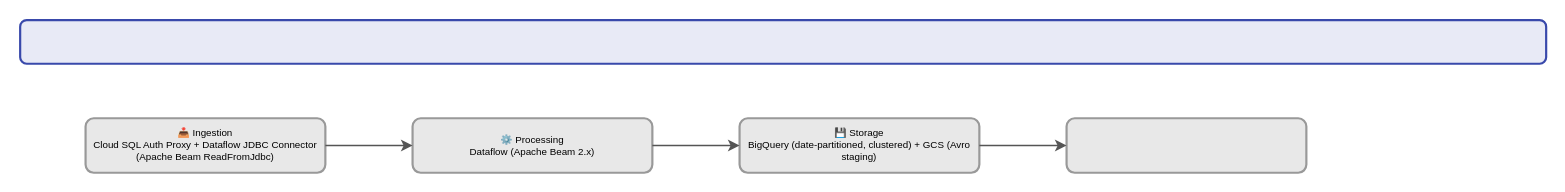
This 1565x192 diagram has some shape labels left out. The shapes that lost their labels are listed below. From the top down, each one's centre as x and y in pixels, then its label:
At point (783, 41): "Data Pipeline Architecture".
At point (1186, 145): "📊 Consumption Consumption".
